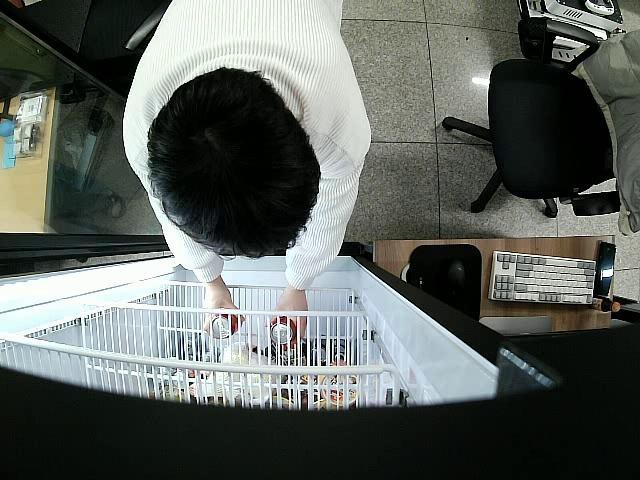11_cocaColaZero: (271, 316, 298, 346), (210, 314, 240, 340)
